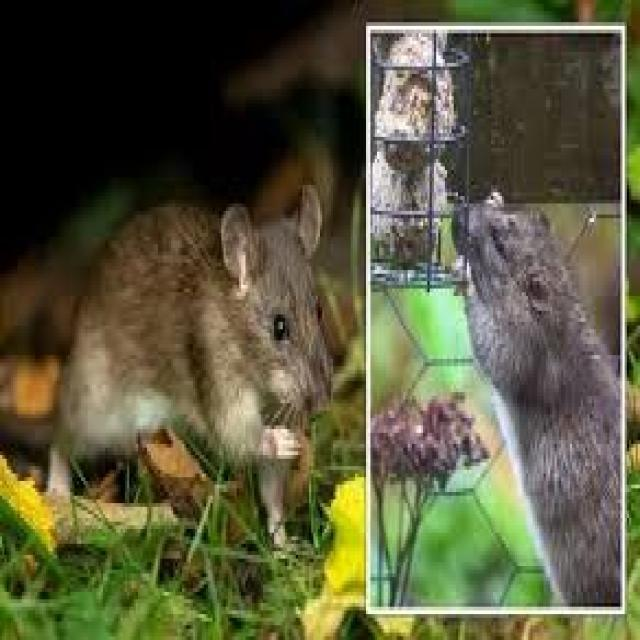Rat: (28, 181, 333, 498), (441, 183, 640, 597)
